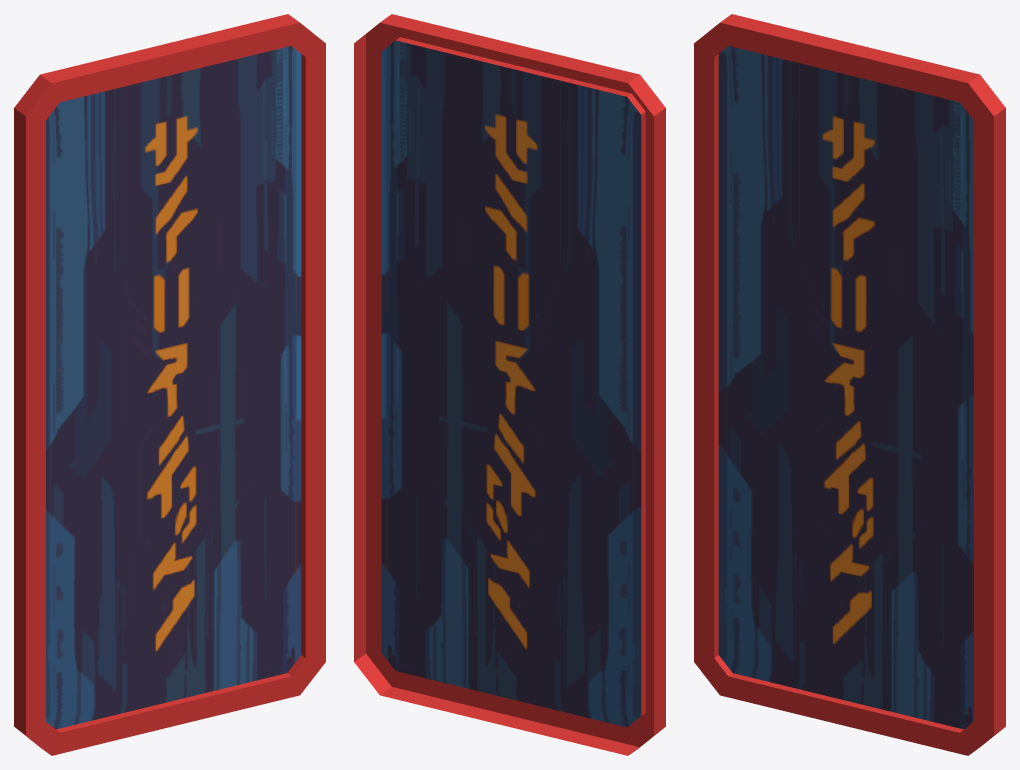
Rendered from CbpBillboard D.fbx.
The picture shows the model from 3 angles, left to right: view 1: azimuth 30°, elevation 25°; view 2: azimuth 150°, elevation 25°; view 3: azimuth 330°, elevation 25°; orthographic projection.
Visible parts, largest first — view 1: CbpBillboard D; view 2: CbpBillboard D; view 3: CbpBillboard D.
Part boxes in pixels (x1,y1,x2,y2): CbpBillboard D: [14, 14, 325, 755]; CbpBillboard D: [354, 14, 665, 755]; CbpBillboard D: [694, 14, 1005, 755].
Size of the model in its own units: 8.01 by 17.17 by 0.548.
